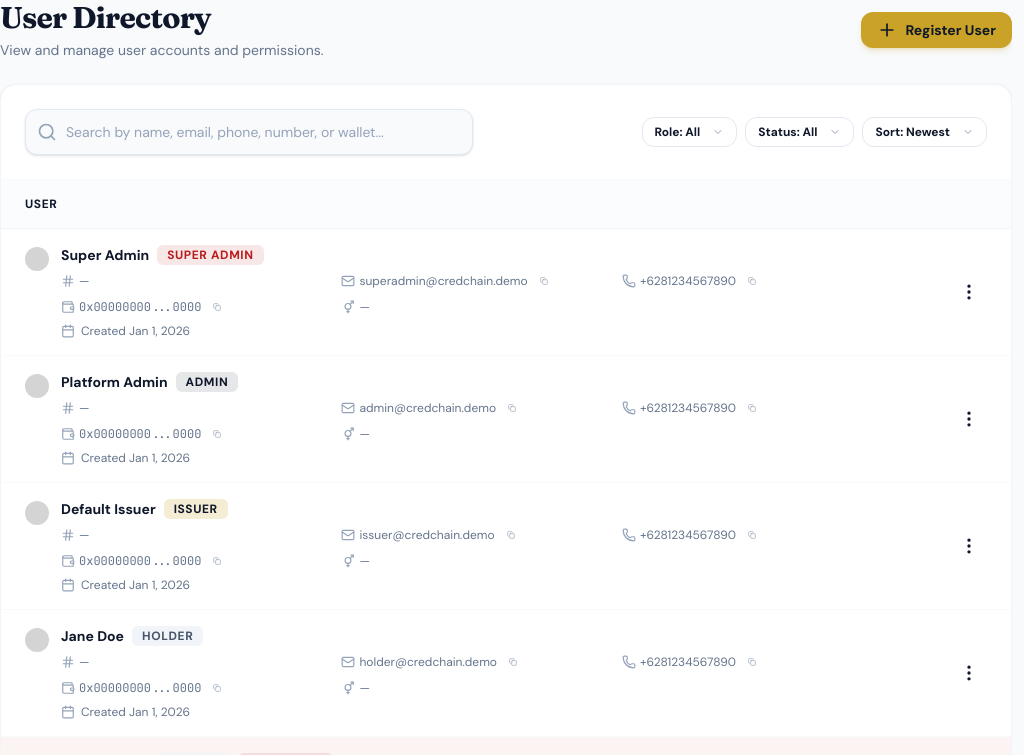
Test case: UserList › clicking Delete opens a confirm dialog
The image size is (1024, 755).
Expected: the link "Default Issuer" is shown, [61,499,156,519]
Click the button named "actions" in the row of "issuer@credchain.demo": (969, 546) [951,528,987,564]
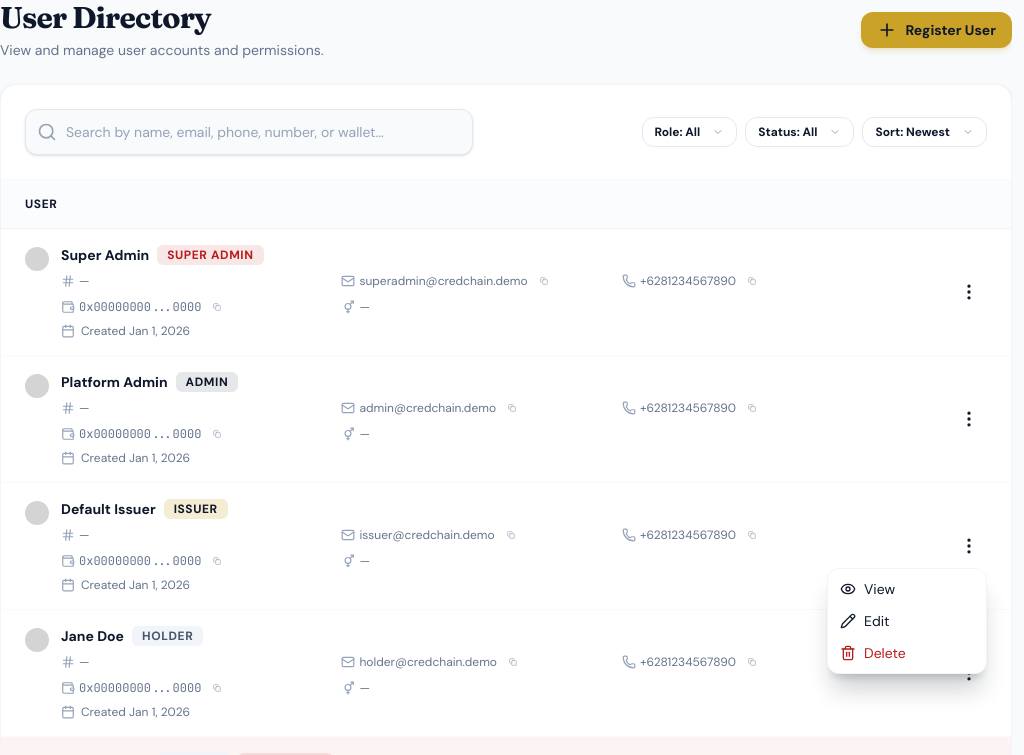
Click the menu item "Delete": (873, 653) [840,644,906,662]
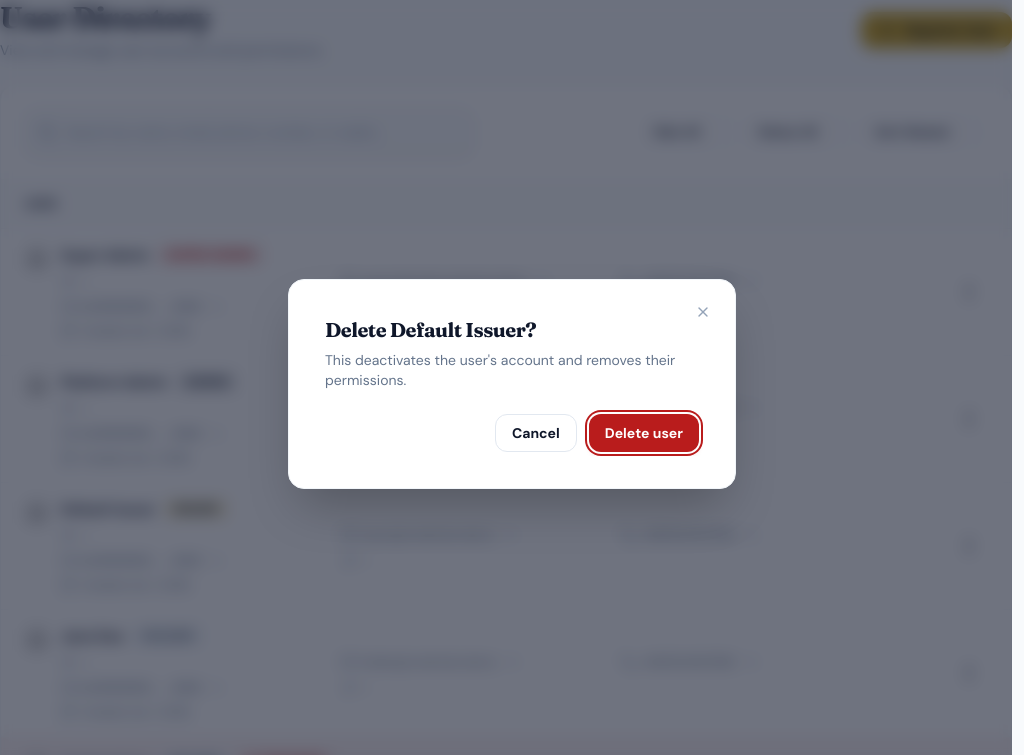
Result: the dialog is shown at [288,279,736,489]
